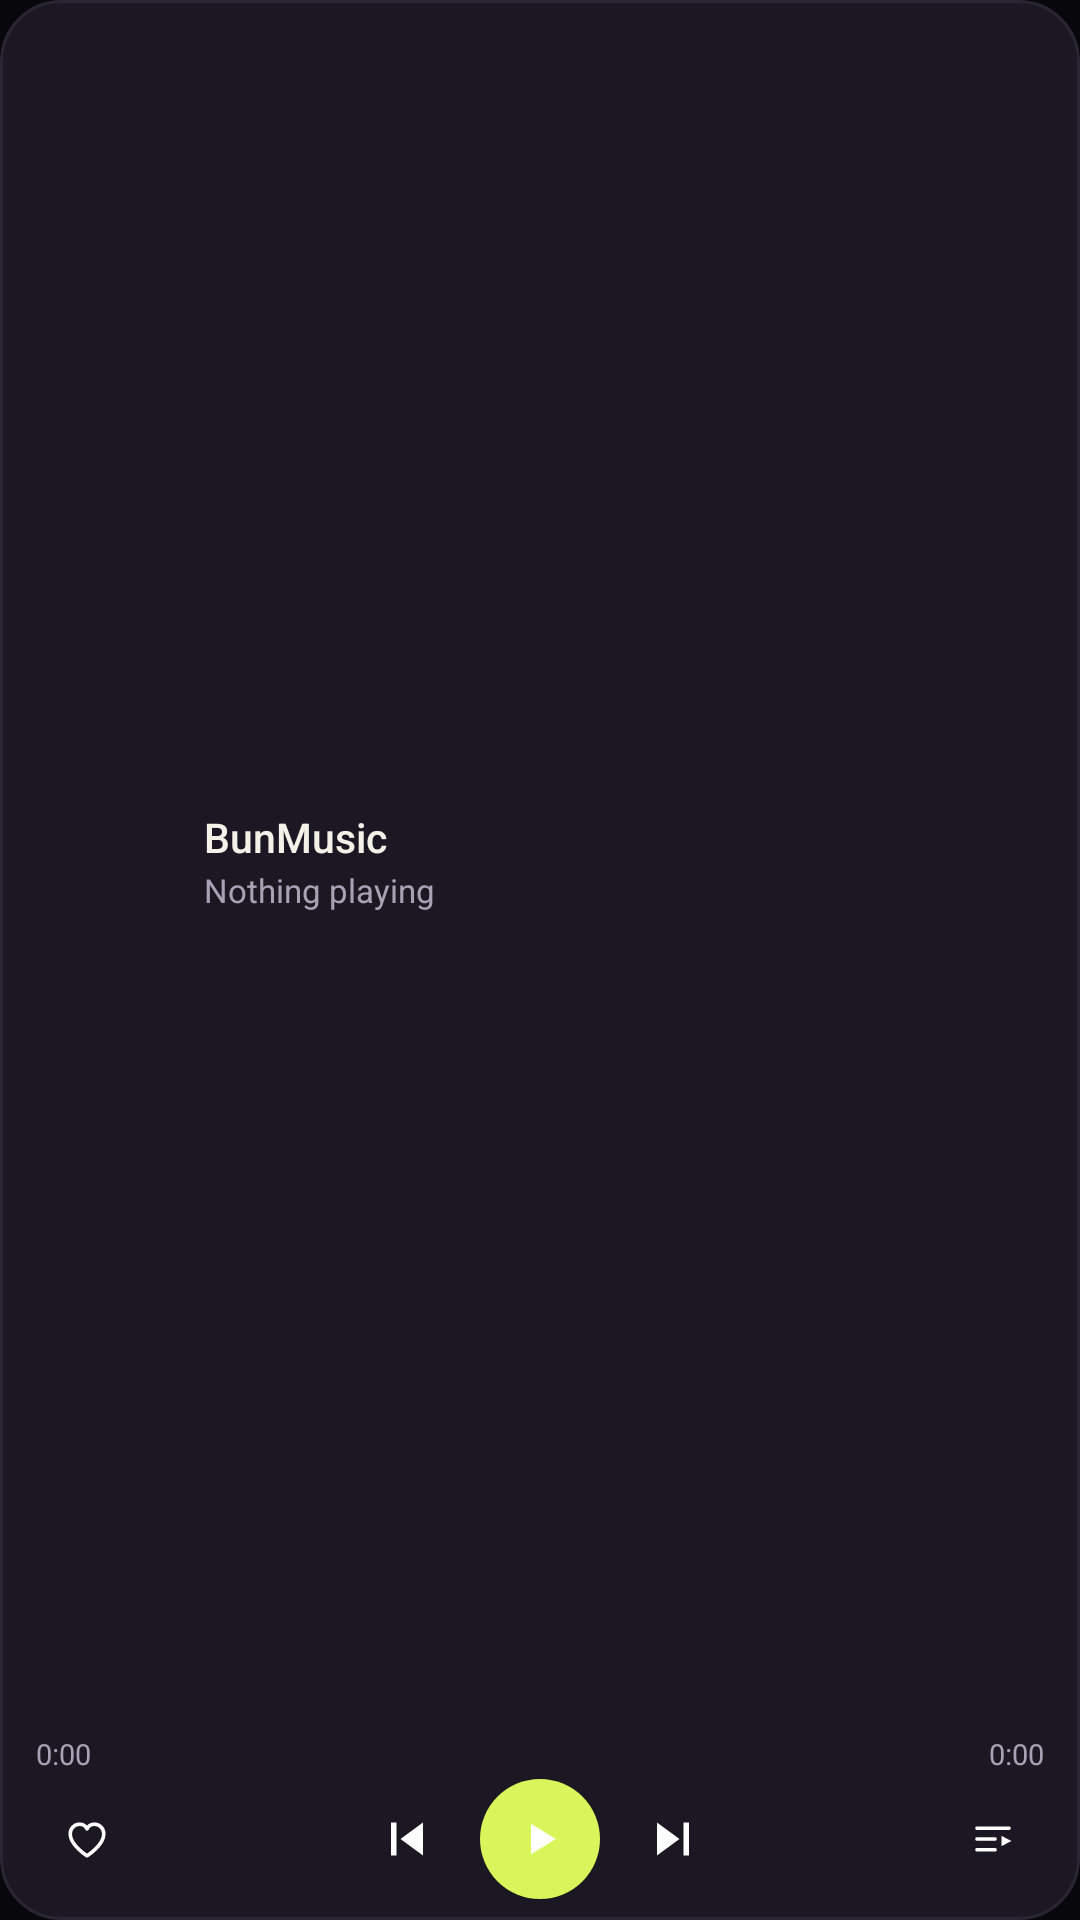

Icon bounding boxes for this 1080×1920 phone screenshot, format {"left": x1, "top": y1, "right": x2, "bottom": y2}:
Like: {"left": 68, "top": 1822, "right": 106, "bottom": 1858}
Next: {"left": 657, "top": 1822, "right": 689, "bottom": 1856}
Open queue: {"left": 975, "top": 1826, "right": 1011, "bottom": 1852}
Play or pause: {"left": 480, "top": 1779, "right": 600, "bottom": 1899}
Previous: {"left": 391, "top": 1822, "right": 423, "bottom": 1856}
